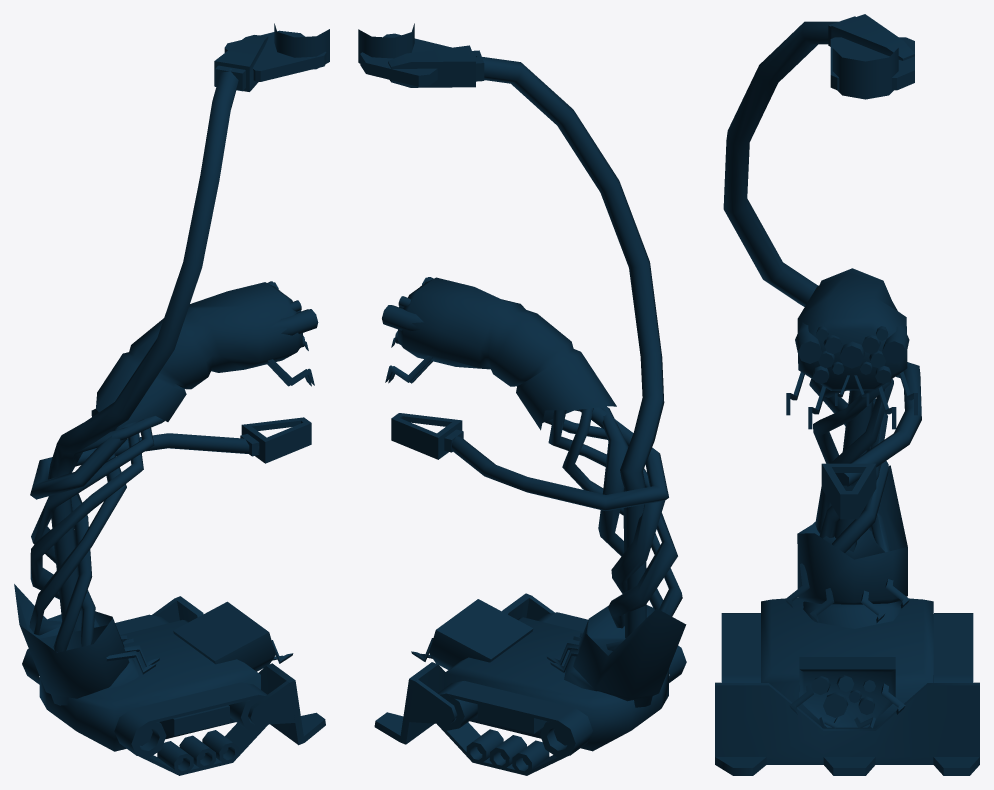
The picture shows the model from 3 angles, left to right: view 1: azimuth 30°, elevation 25°; view 2: azimuth 150°, elevation 25°; view 3: azimuth 270°, elevation 25°; orthographic projection. The views are drawn at different scales.
Parts seen in each view (by area): view 1: Cube.4; view 2: Cube.4; view 3: Cube.4.
Part boxes in pixels (x1,y1,x2,y2): Cube.4: (14, 23, 329, 775); Cube.4: (358, 23, 686, 775); Cube.4: (715, 14, 979, 775).
Bounding box in the file's own units: 6.07 × 12.17 × 3.85.
1 material, 1 textured.
